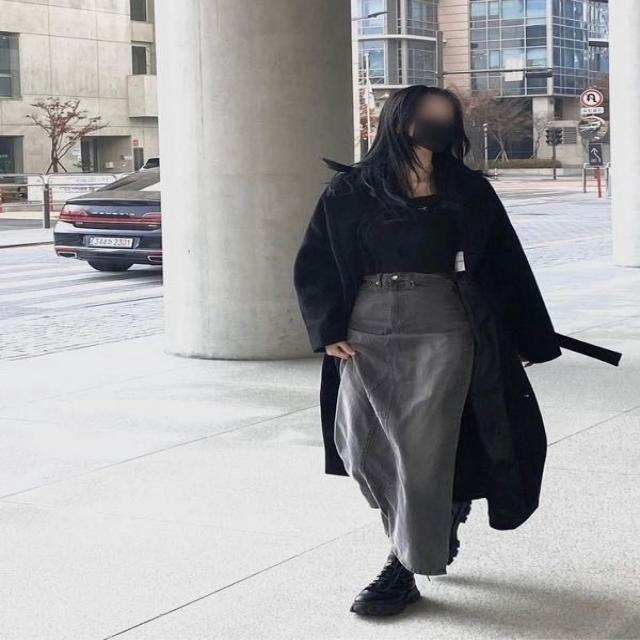coat: (293, 152, 559, 532)
skirt: (335, 269, 472, 575)
